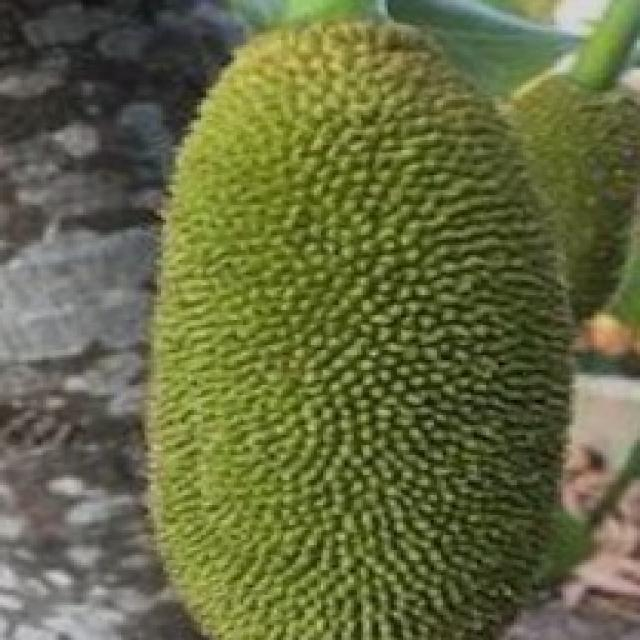Fruit: (105, 0, 517, 475), (89, 265, 465, 640), (243, 2, 640, 330)
